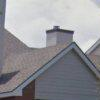Chimney: (39, 16, 76, 46)
